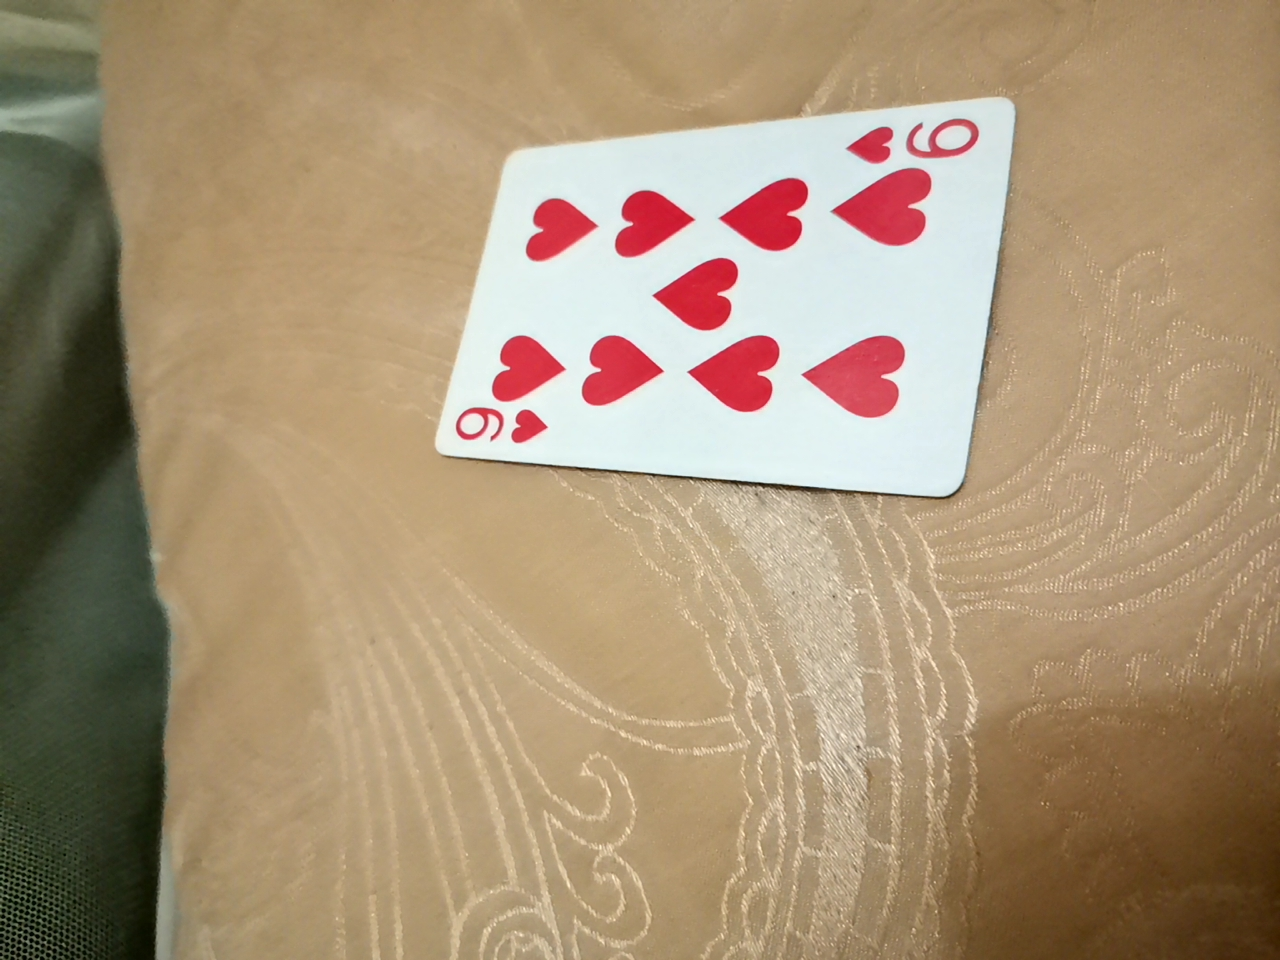hx 9: (398, 4, 1016, 361)
